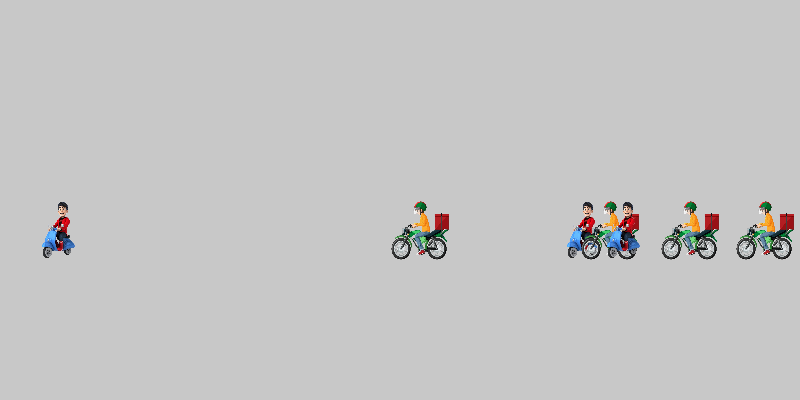helmet: (390, 200, 450, 260), (580, 200, 640, 260), (660, 200, 720, 260), (735, 200, 795, 260)
no_helmet: (30, 200, 90, 260), (555, 200, 615, 260), (595, 200, 655, 260)
